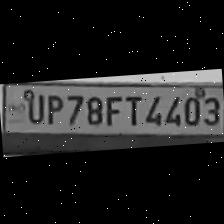0: (179, 90, 199, 123)
3: (198, 90, 222, 124)
4: (140, 90, 162, 126), (161, 90, 181, 124)
7: (61, 89, 82, 126)
8: (82, 90, 104, 127)
F: (100, 92, 120, 124)
P: (41, 88, 64, 124)
T: (120, 91, 142, 126)
U: (21, 88, 44, 123)
